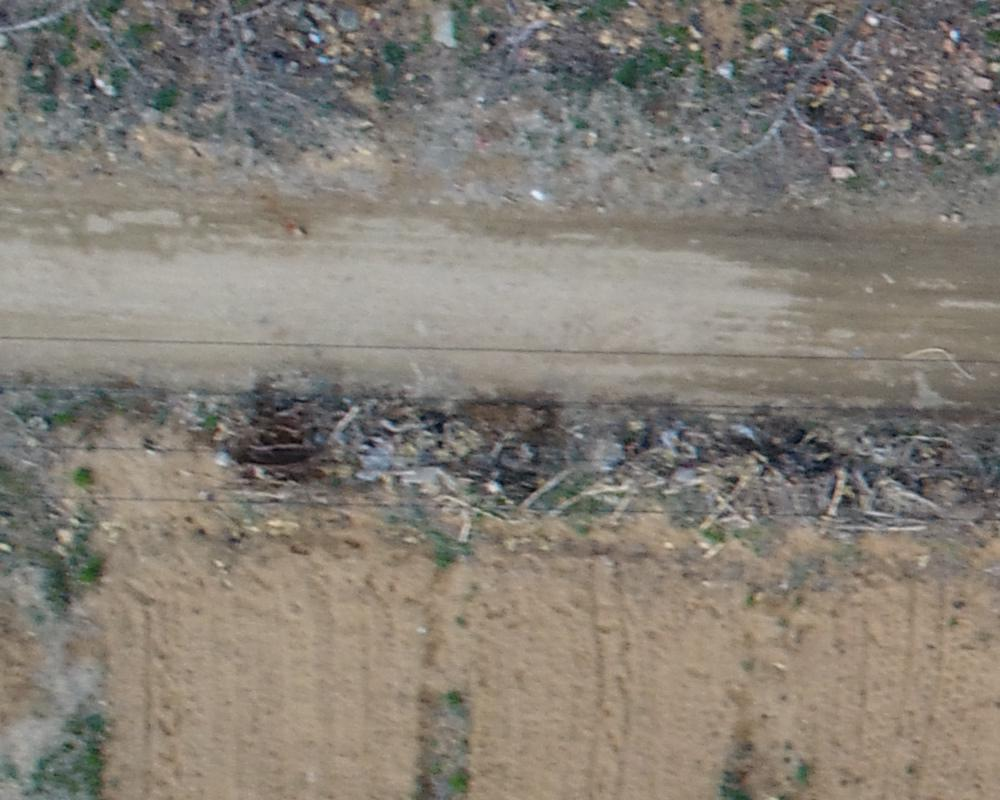apple: (700, 10, 990, 174)
